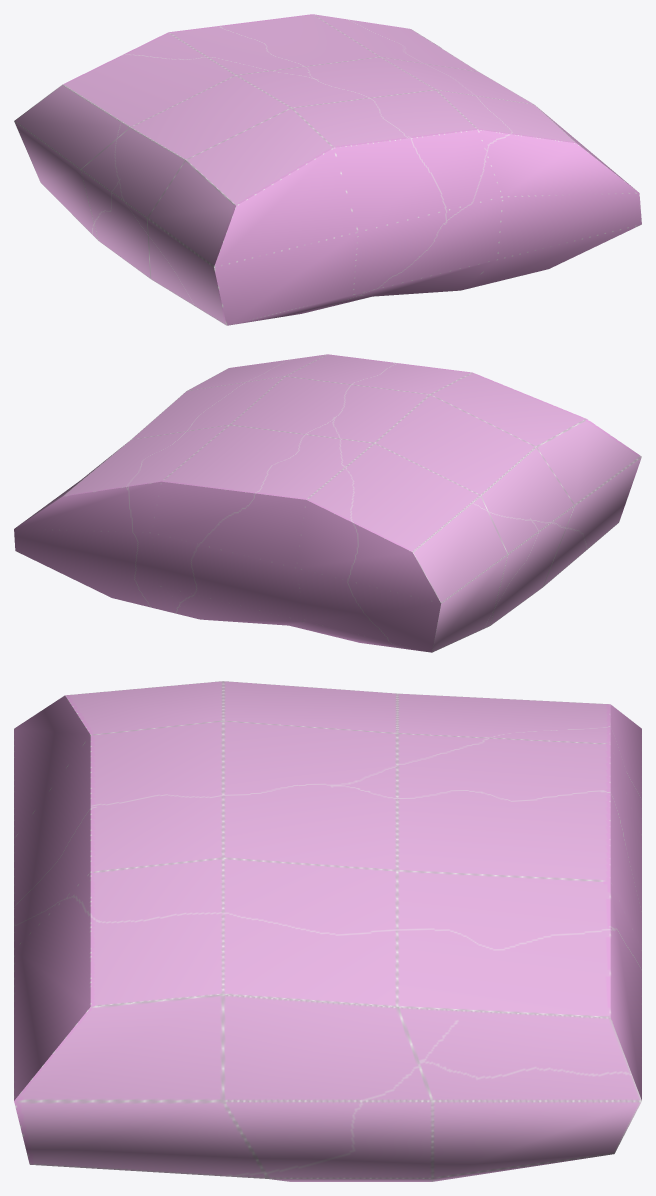
The model's file is c_meat.fbx.
The picture shows the model from 3 angles, top to bottom: view 1: azimuth 30°, elevation 25°; view 2: azimuth 150°, elevation 25°; view 3: azimuth 270°, elevation 25°; orthographic projection. The views are drawn at different scales.
Parts seen in each view (by area): view 1: pCube2; view 2: pCube2; view 3: pCube2.
Boxes of the visible parts, x1,y1,x2,y2 form: pCube2: [14, 14, 641, 325]; pCube2: [14, 354, 641, 652]; pCube2: [14, 681, 641, 1181].
Size of the model in its own units: 10 by 4.28 by 8.
